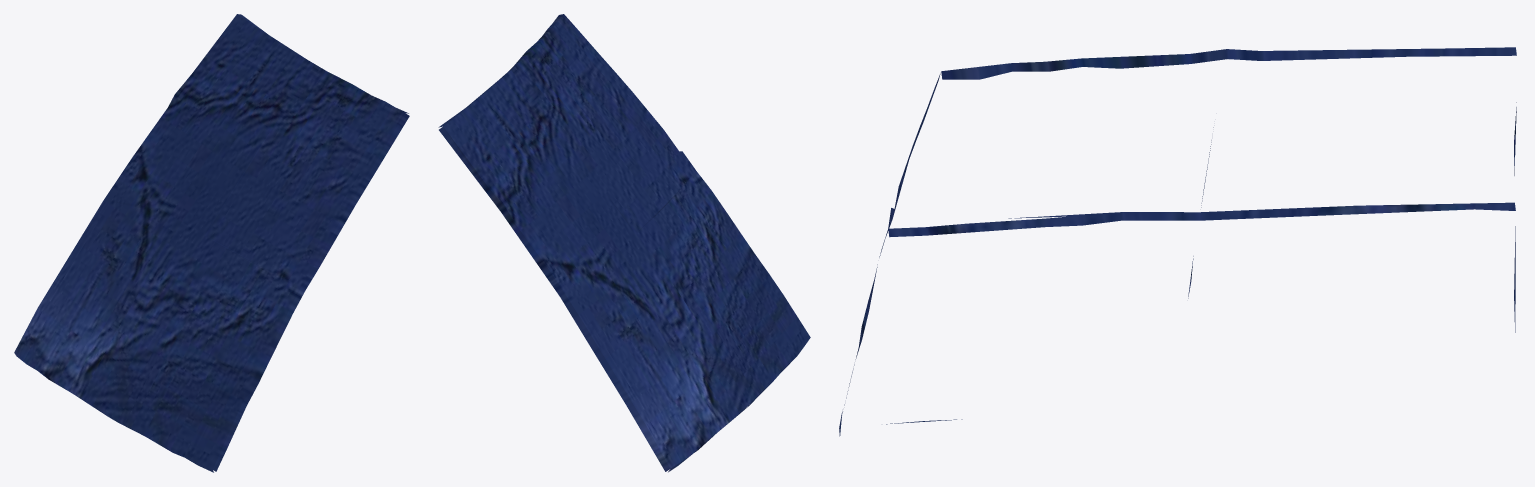
The picture shows the model from 3 angles, left to right: view 1: azimuth 30°, elevation 25°; view 2: azimuth 150°, elevation 25°; view 3: azimuth 270°, elevation 25°; orthographic projection. The views are drawn at different scales.
Size of the model in its own units: 902244 by 989505 by 1048677.
Materials: 1 (1 with a texture image).
